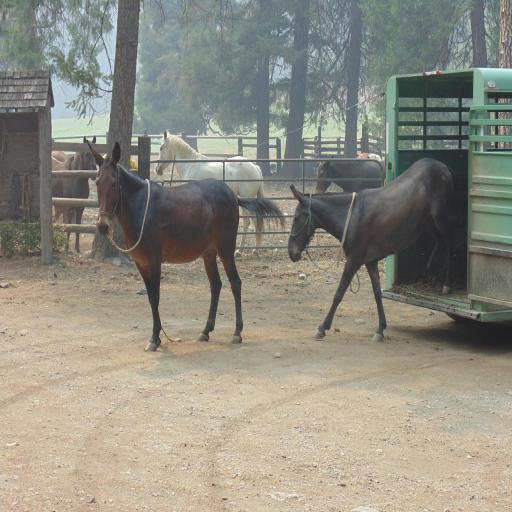horse: (86, 140, 288, 350), (154, 130, 266, 260), (50, 134, 98, 256)
